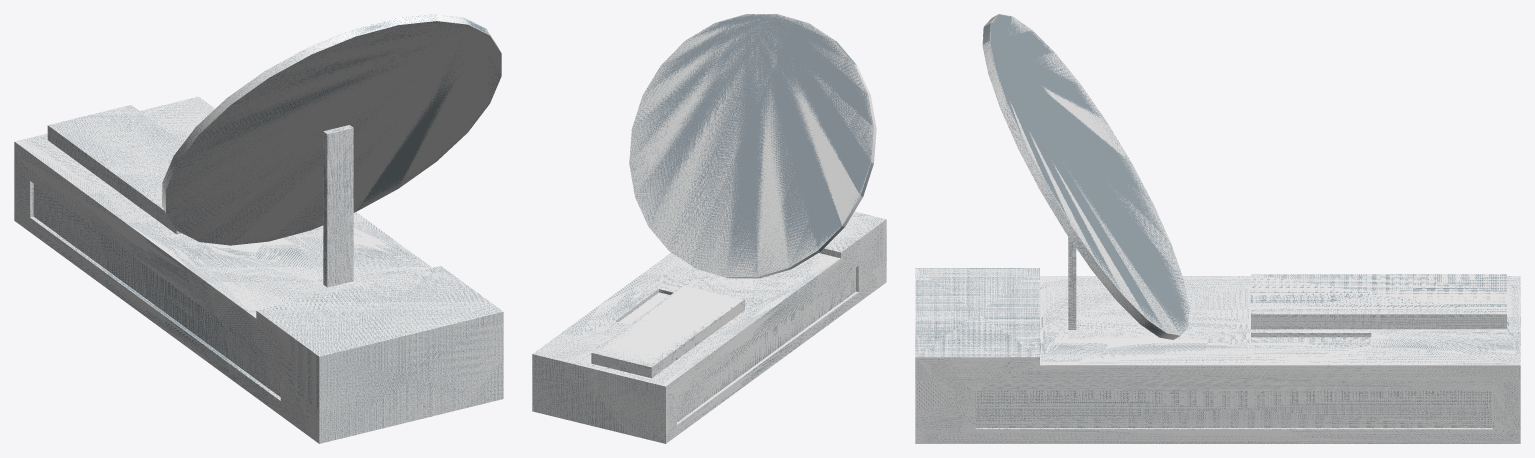
Rendered from Satelite trailer.fbx.
The picture shows the model from 3 angles, left to right: view 1: azimuth 30°, elevation 25°; view 2: azimuth 150°, elevation 25°; view 3: azimuth 270°, elevation 25°; orthographic projection. The views are drawn at different scales.
Visible parts, largest first — view 1: Model; view 2: Model; view 3: Model.
Part boxes in pixels (x1,y1,x2,y2): Model: (14, 14, 503, 443); Model: (532, 14, 886, 443); Model: (915, 14, 1520, 443).
Bounding box in the file's own units: 5.87 × 6.46 × 9.63.
